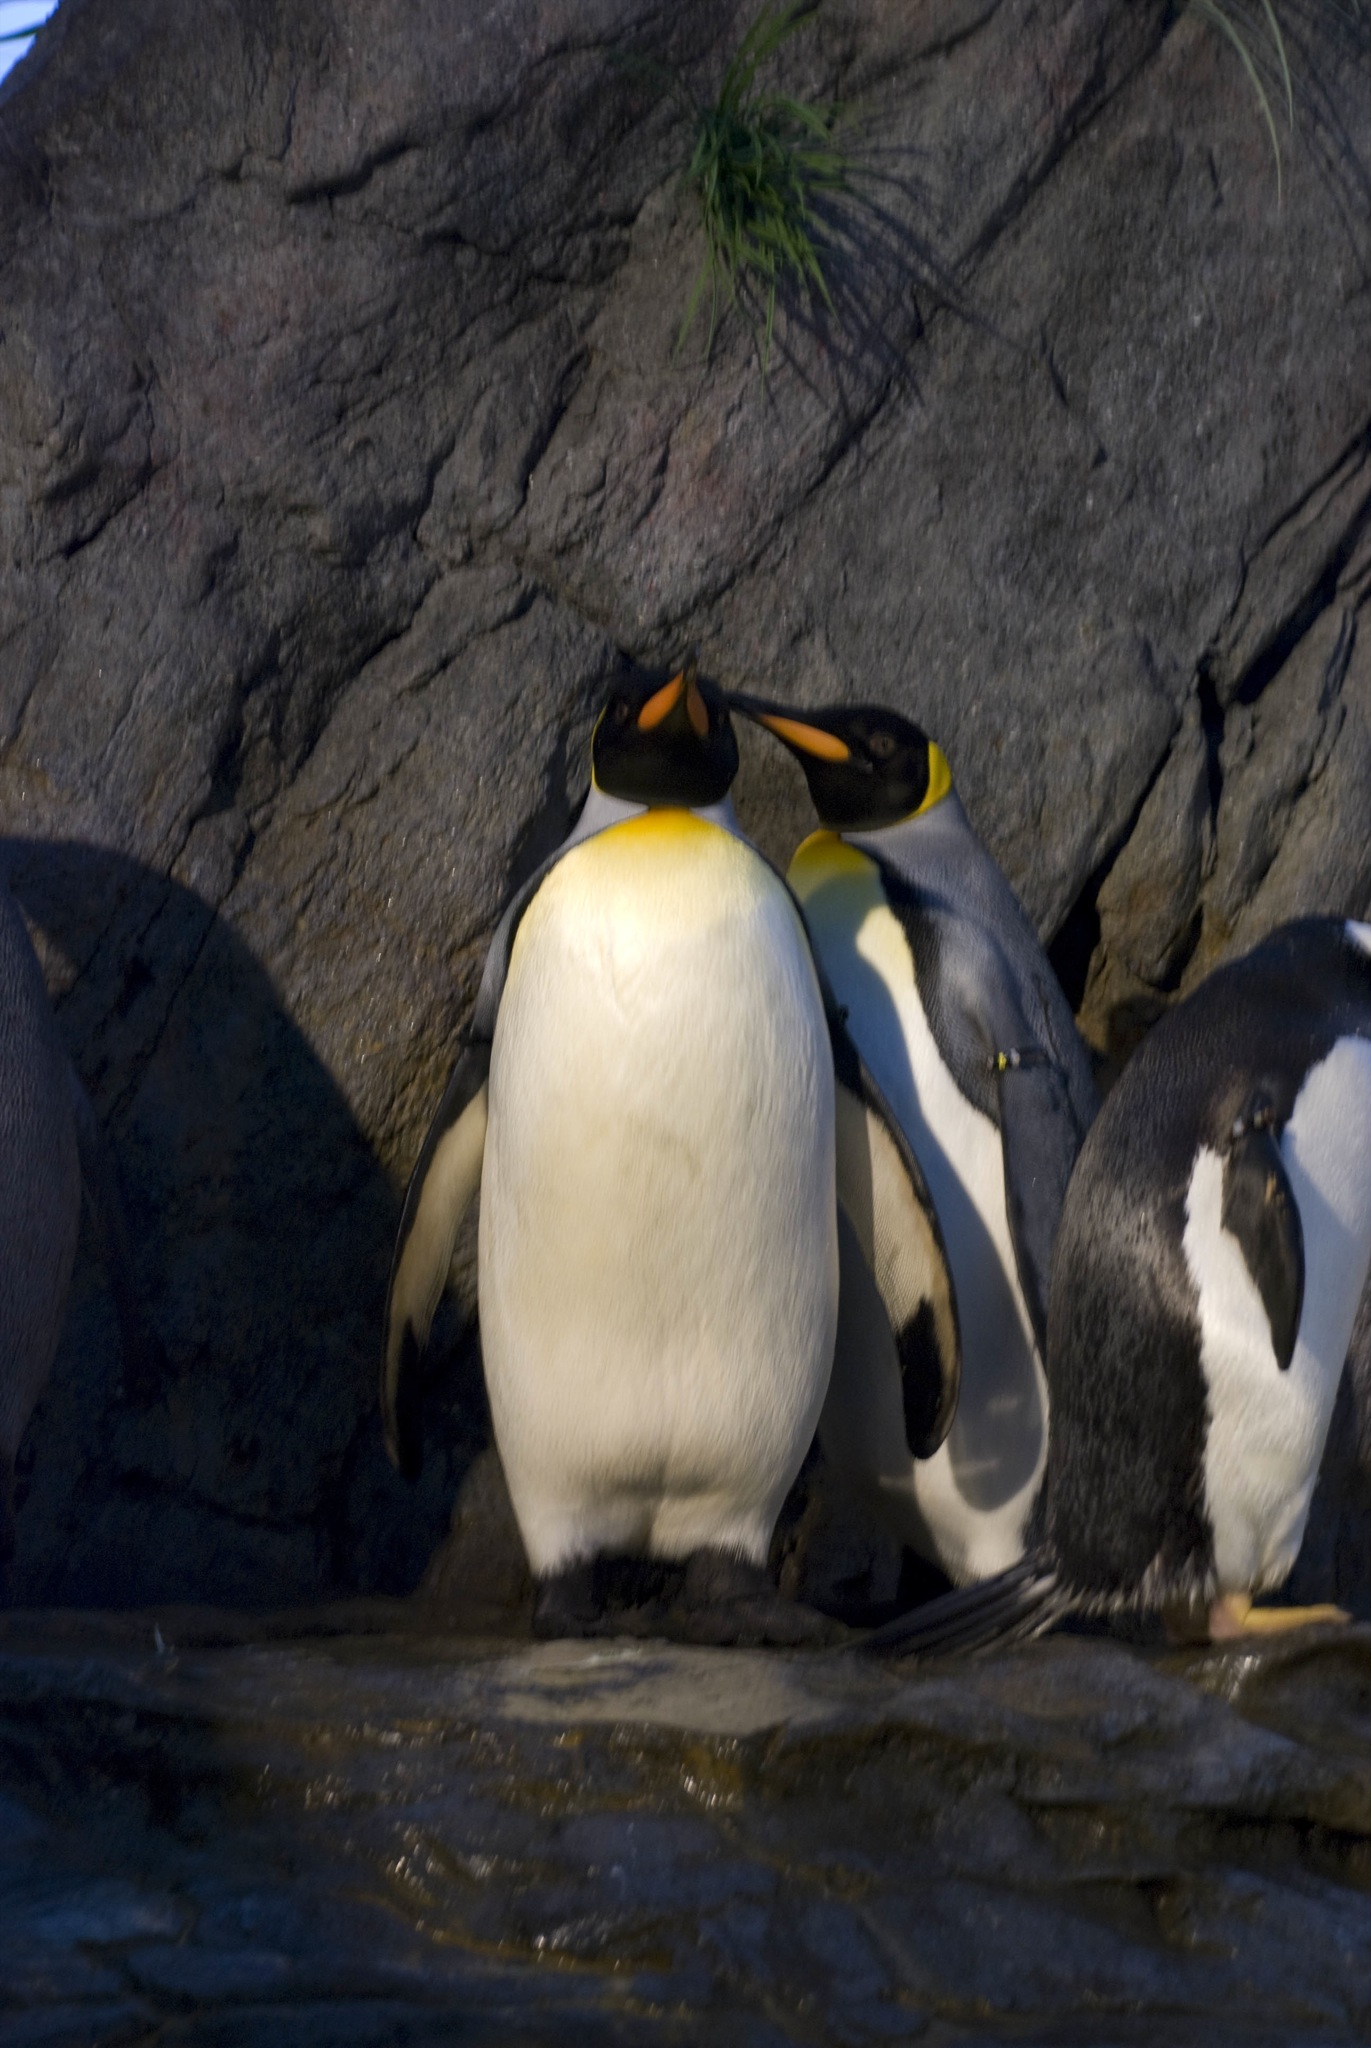penguin: (399, 664, 966, 1641)
